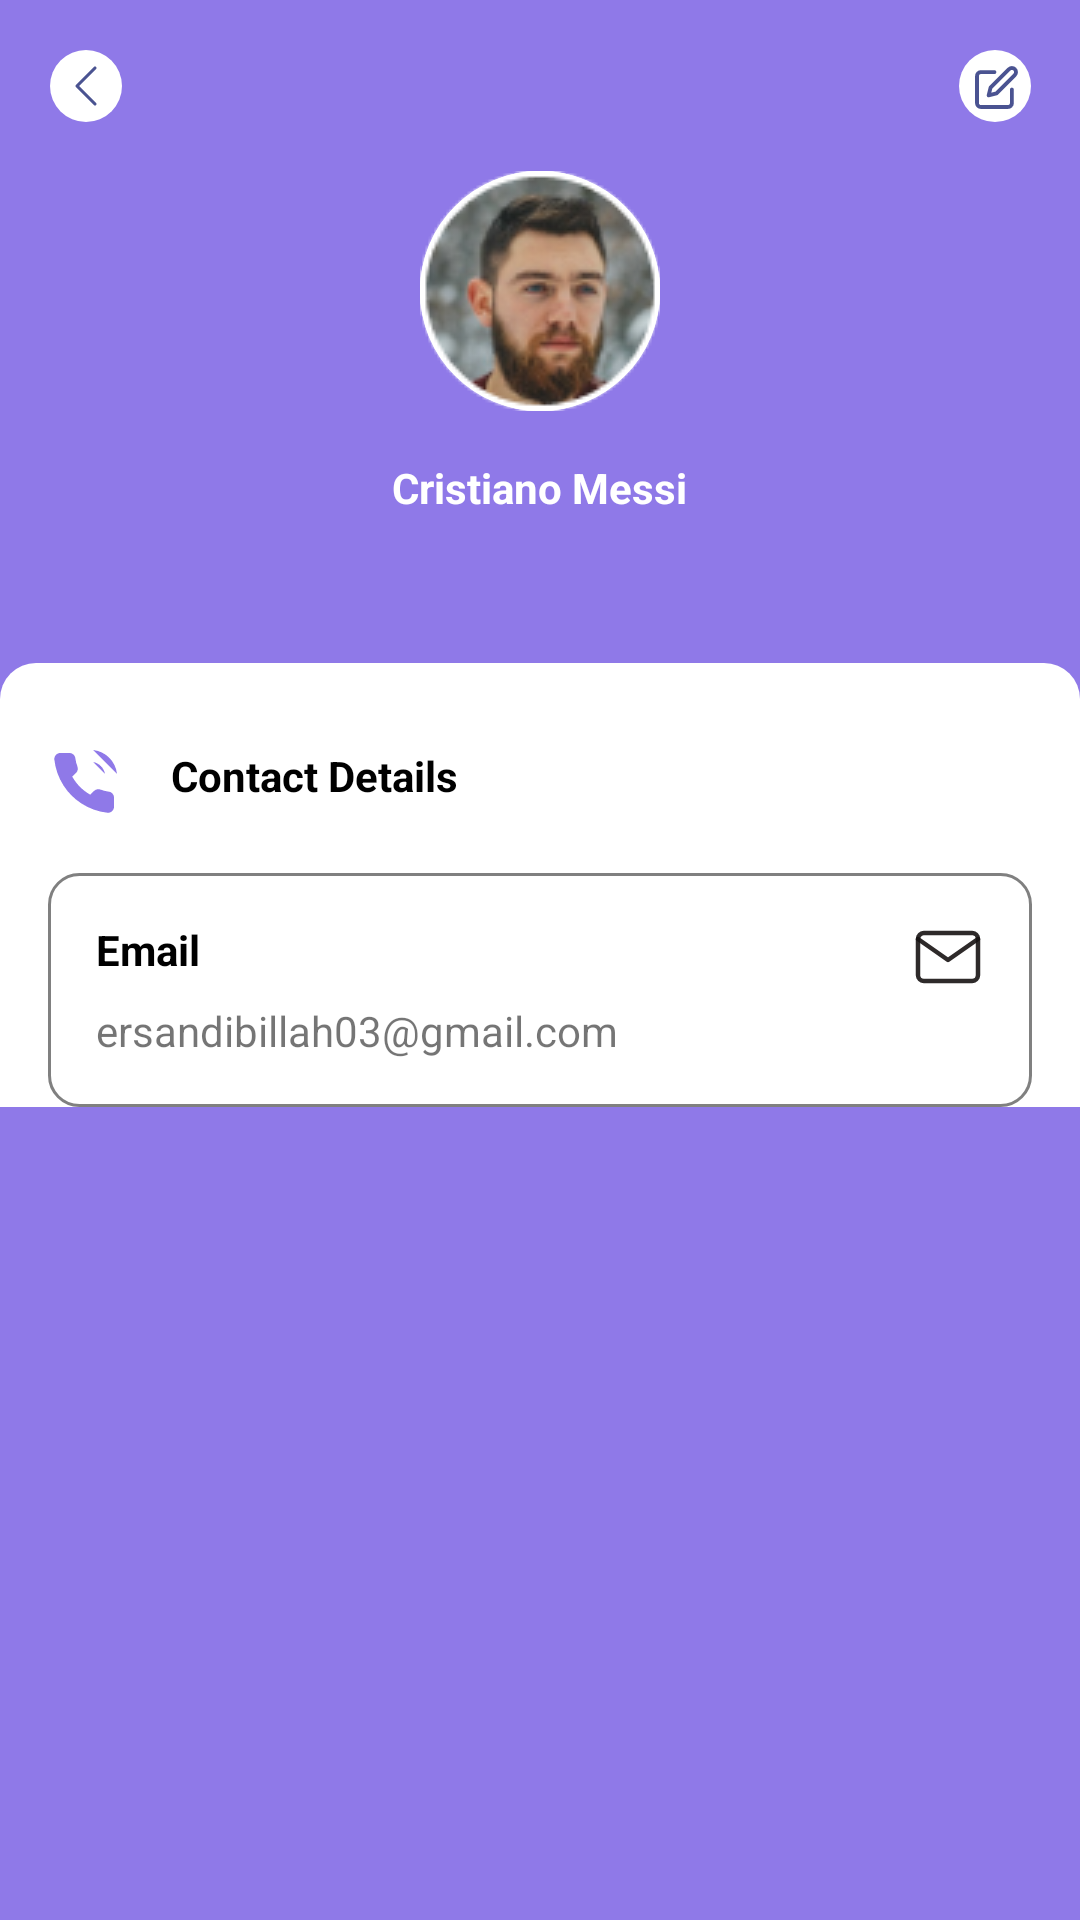

Icons on this 1080 × 1920 Android screen, each with its box as detection(x1, y1, x2, y2):
back profile: detection(50, 50, 122, 122)
edit profile: detection(959, 50, 1031, 122)
email profile: detection(915, 930, 981, 984)
phone call: detection(54, 750, 117, 813)
